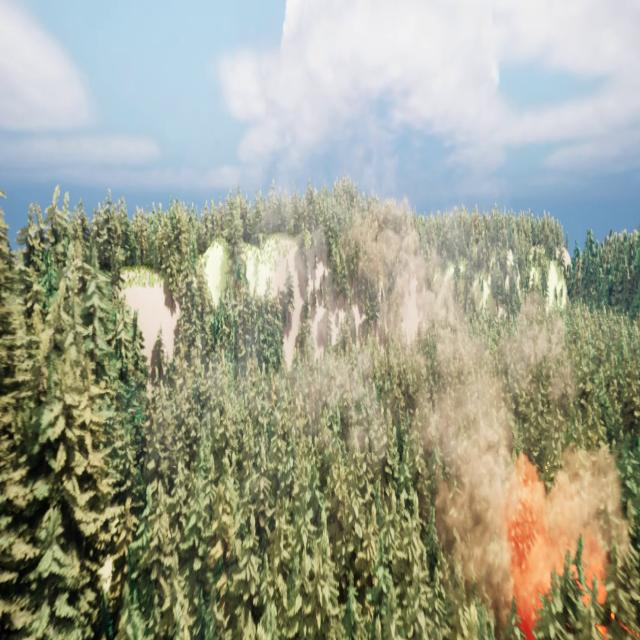fire: (504, 456, 624, 634)
smoke: (276, 192, 622, 616)
